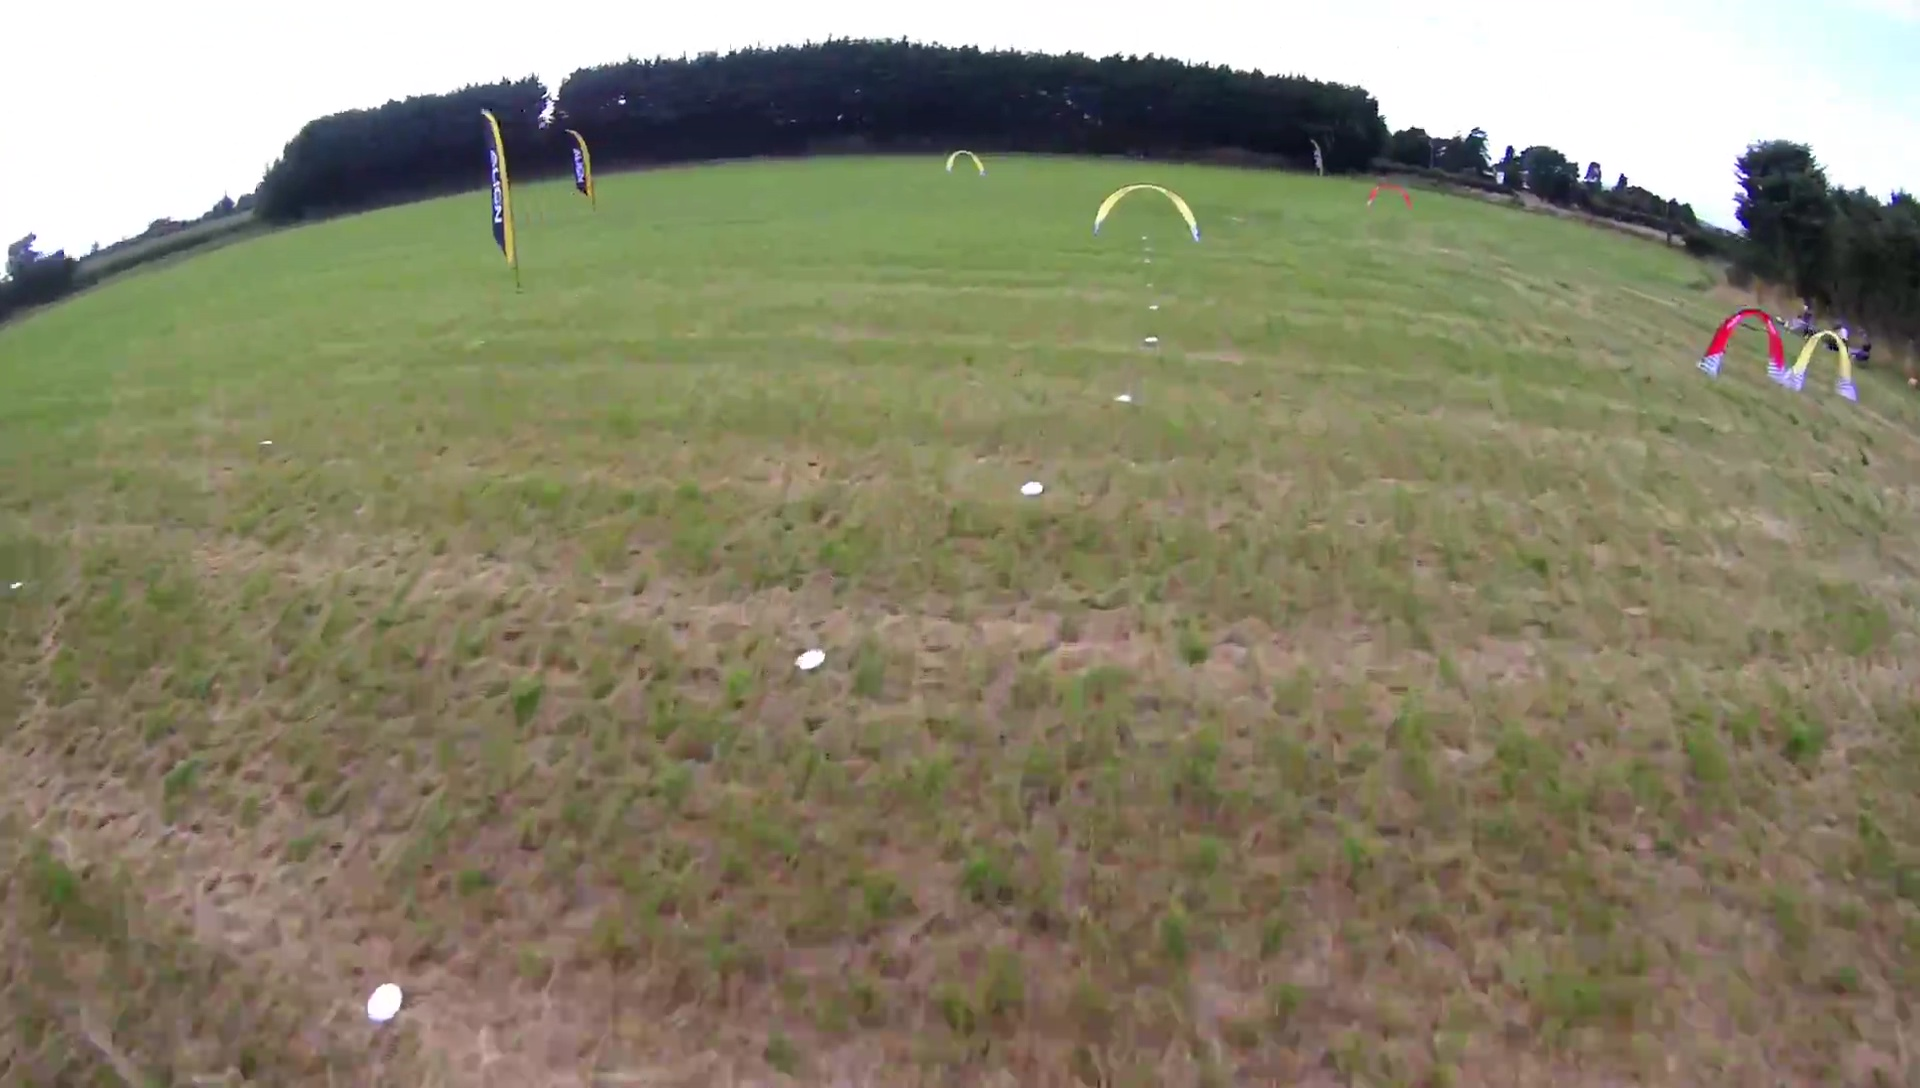gate: (1693, 305, 1793, 382), (1095, 182, 1205, 243), (1791, 328, 1855, 402), (1361, 179, 1418, 214), (942, 148, 990, 179)
